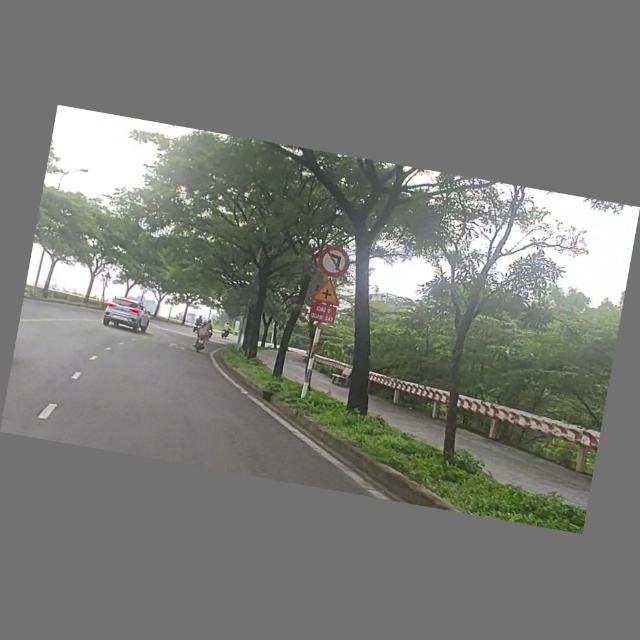P.123a: (314, 243, 354, 282)
W.205a: (309, 274, 346, 308)
